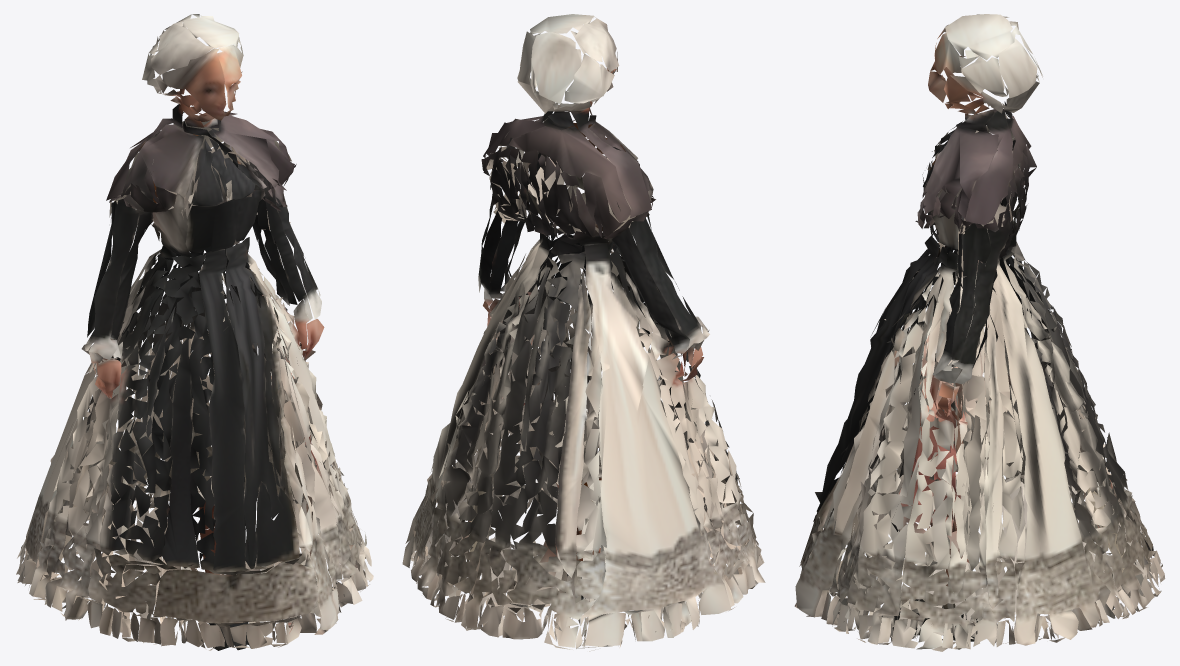
File: char_old_f_bonnet.glb
The picture shows the model from 3 angles, left to right: view 1: azimuth 30°, elevation 25°; view 2: azimuth 150°, elevation 25°; view 3: azimuth 270°, elevation 25°; orthographic projection. The views are drawn at different scales.
Visible parts, largest first — view 1: geometry_0; view 2: geometry_0; view 3: geometry_0.
Part boxes in pixels (x1=…): geometry_0: x1=16, y1=14, x2=373, y2=650; geometry_0: x1=402, y1=14, x2=765, y2=651; geometry_0: x1=794, y1=14, x2=1165, y2=651.
Size of the model in its own units: 0.9441 by 1.7 by 0.9352.
Materials: 1 (1 with a texture image).
